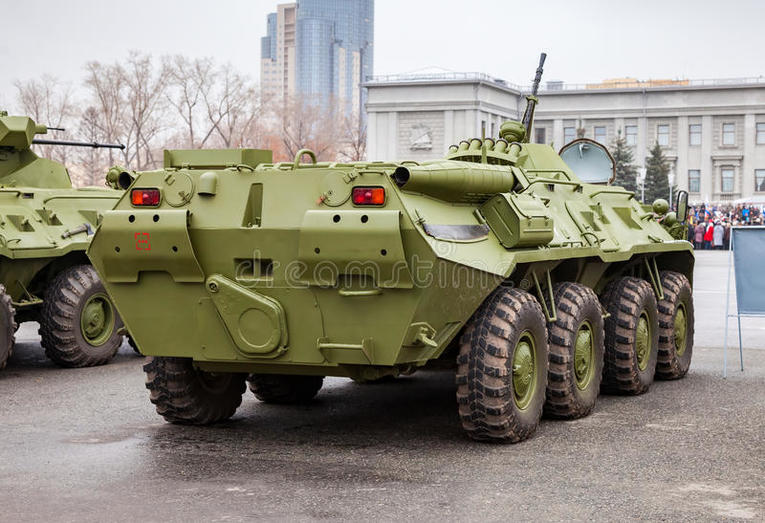btr: (94, 162, 700, 428)
